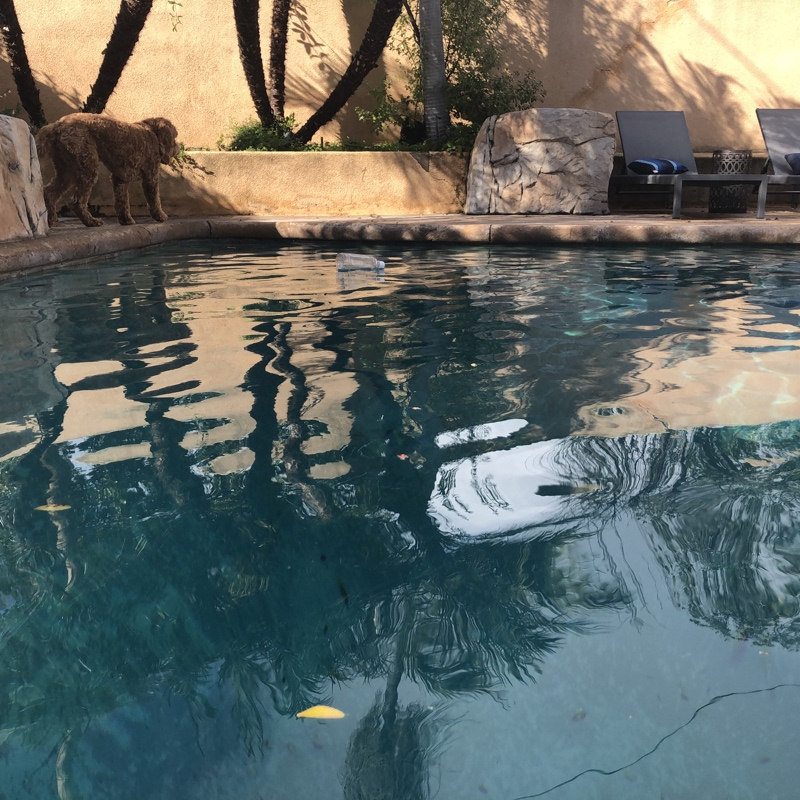Plastic Bottle: (334, 250, 386, 272)
